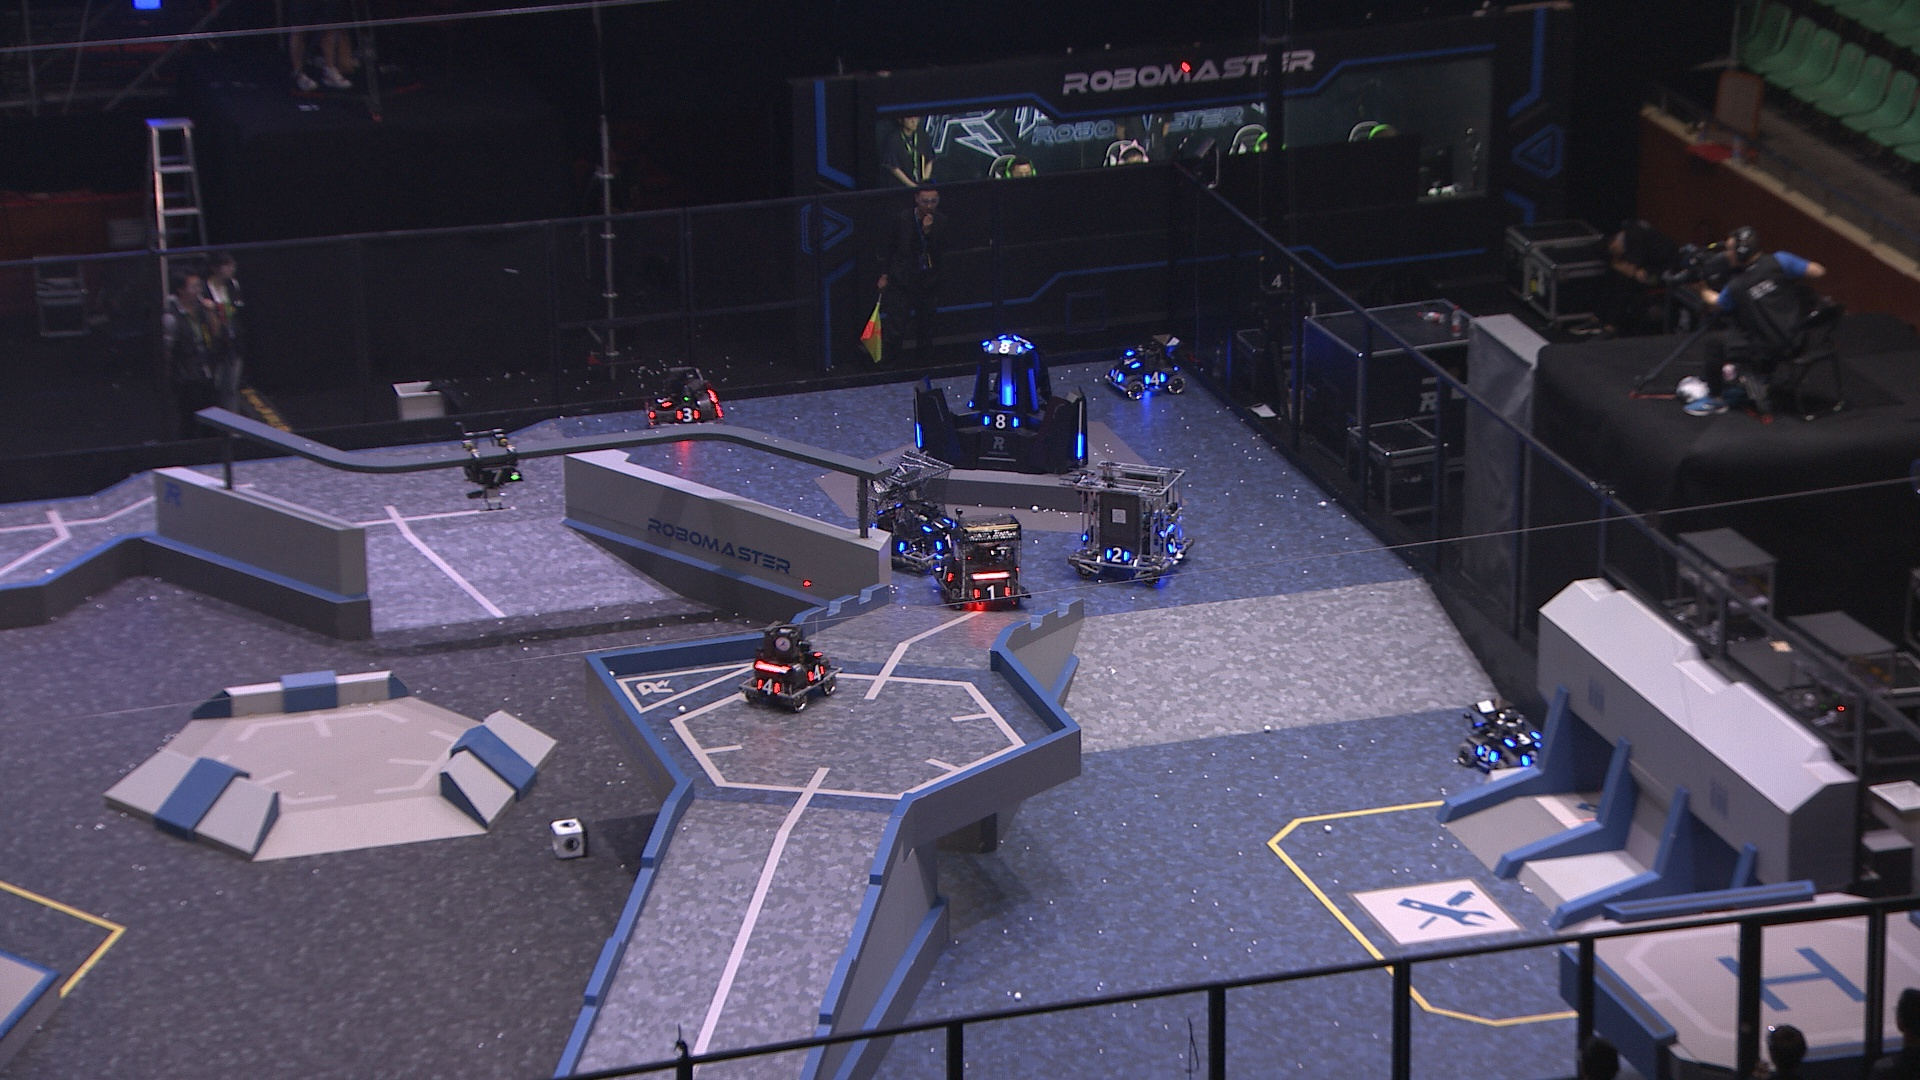armor: (971, 582, 1015, 603), (981, 411, 1022, 434), (473, 465, 520, 485), (1470, 740, 1505, 766), (1501, 728, 1544, 746), (1026, 373, 1044, 414), (754, 673, 783, 698), (802, 659, 828, 684), (986, 339, 1025, 356), (1102, 542, 1131, 564), (1139, 367, 1168, 389), (673, 404, 703, 425), (1519, 746, 1545, 769), (920, 516, 953, 533), (932, 562, 957, 582), (1162, 531, 1182, 555), (654, 390, 676, 410), (935, 533, 959, 551), (1120, 349, 1139, 371), (1106, 367, 1127, 386), (998, 381, 1015, 405), (1073, 434, 1084, 460), (913, 423, 923, 448)
base: (910, 328, 1091, 476)
car: (1065, 452, 1197, 584), (855, 450, 968, 572), (931, 509, 1029, 612), (733, 618, 840, 712), (1456, 694, 1557, 777), (1096, 328, 1192, 398), (638, 360, 723, 436)
watcher: (456, 425, 527, 510)
